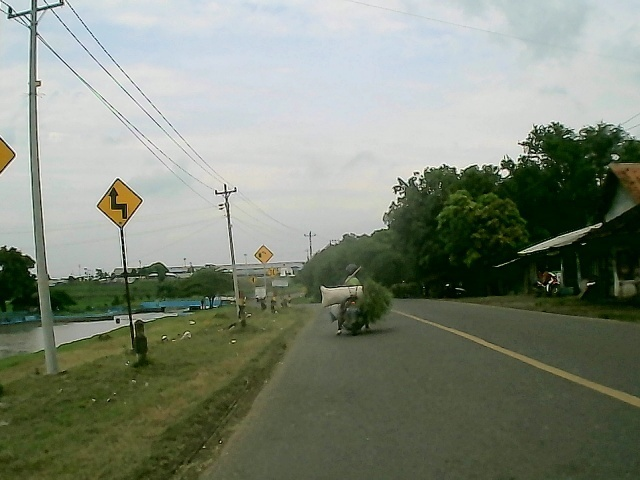Jembatan: (264, 266, 282, 279)
Peringatan tepi air: (254, 242, 276, 265)
Tikungan garda pertama kiri: (95, 176, 147, 228)
